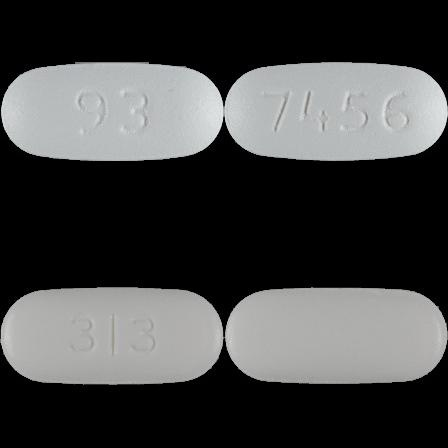54868-5188: (0, 0, 224, 224)
